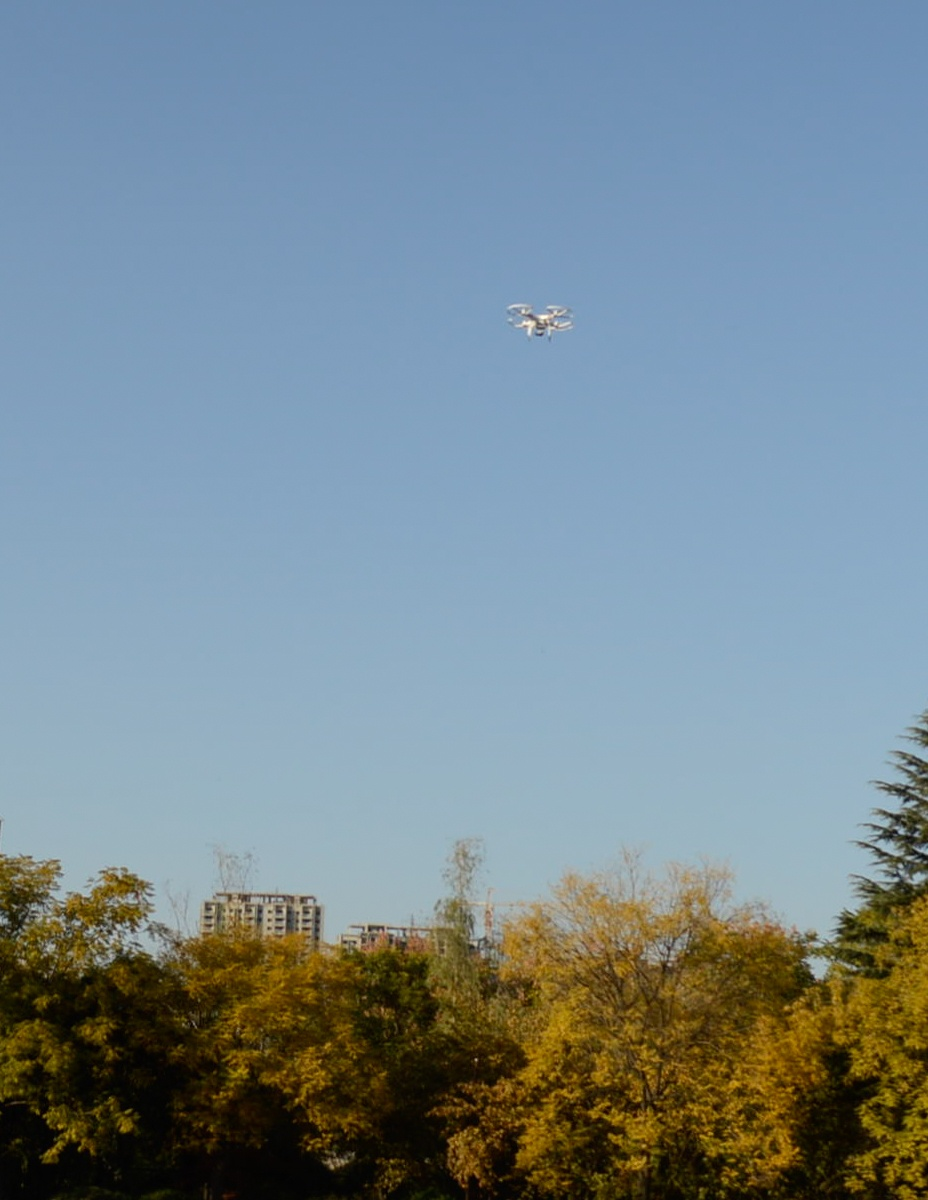DJI: (504, 298, 575, 341)
